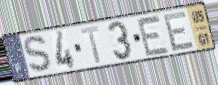3: (107, 21, 135, 62)
4: (55, 29, 75, 70)
E: (134, 14, 171, 58), (162, 9, 196, 53)
S: (22, 34, 56, 75)
T: (79, 25, 103, 65)
